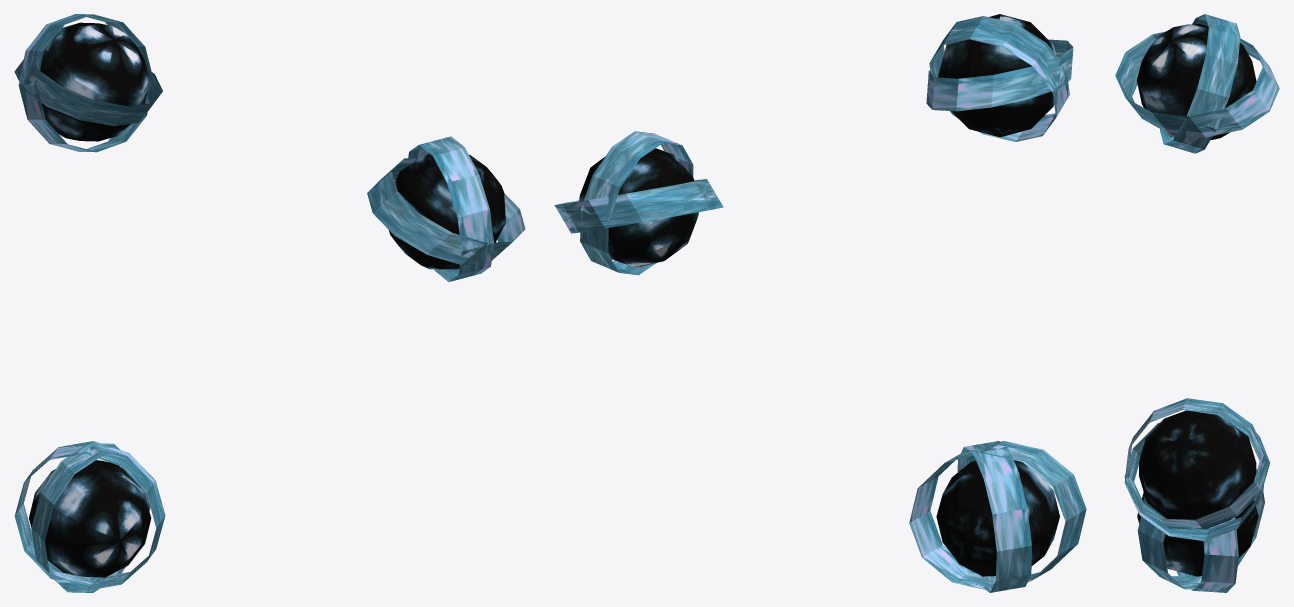
The model's file is tx_summon_baihuqiyue_keep.obj.
3 views of the same model, side by side, from view 1: azimuth 30°, elevation 25°; view 2: azimuth 150°, elevation 25°; view 3: azimuth 270°, elevation 25° (orthographic).
Visible parts, largest first — view 1: Sphere02222, Sphere03333, Cylinder04#2, Cylinder05#2, Sphere023333, Cylinder0444#2, Cylinder06#2, Cylinder02222#2, Cylinder055#2; view 2: Sphere02222, Cylinder055#2, Cylinder0444#2, Sphere023333, Sphere03333, Cylinder04#2, Cylinder02222#2, Cylinder05#2, Cylinder06#2; view 3: Sphere023333, Sphere03333, Cylinder02222#2, Cylinder06#2, Cylinder05#2, Cylinder04#2, Sphere02222, Cylinder055#2, Cylinder0444#2.
Boxes of the visible parts, x1,y1,x2,y2 form: Sphere02222: (29,460,151,577); Sphere03333: (40,22,149,141); Cylinder04#2: (367,158,525,264); Cylinder05#2: (408,136,493,281); Sphere023333: (388,153,505,269); Cylinder0444#2: (14,441,165,590); Cylinder06#2: (18,14,153,152); Cylinder02222#2: (14,59,162,126); Cylinder055#2: (31,443,150,592); Sphere02222: (936,460,1059,576); Cylinder055#2: (909,441,1086,589); Cylinder0444#2: (957,441,1031,592); Sphere023333: (579,148,698,266); Sphere03333: (938,14,1056,137); Cylinder04#2: (554,179,723,233); Cylinder02222#2: (926,39,1073,111); Cylinder05#2: (580,131,693,275); Cylinder06#2: (929,16,1069,141); Sphere023333: (1139,410,1256,529); Sphere03333: (1136,23,1256,139); Cylinder02222#2: (1115,31,1279,137); Cylinder06#2: (1160,14,1240,153); Cylinder05#2: (1124,398,1267,541); Cylinder04#2: (1124,422,1269,529); Sphere02222: (1137,492,1258,576); Cylinder055#2: (1176,517,1238,592); Cylinder0444#2: (1137,469,1264,589).
Bounding box in the file's own units: 81.34 × 88.72 × 23.61.
Materials: 3 (3 with a texture image).
